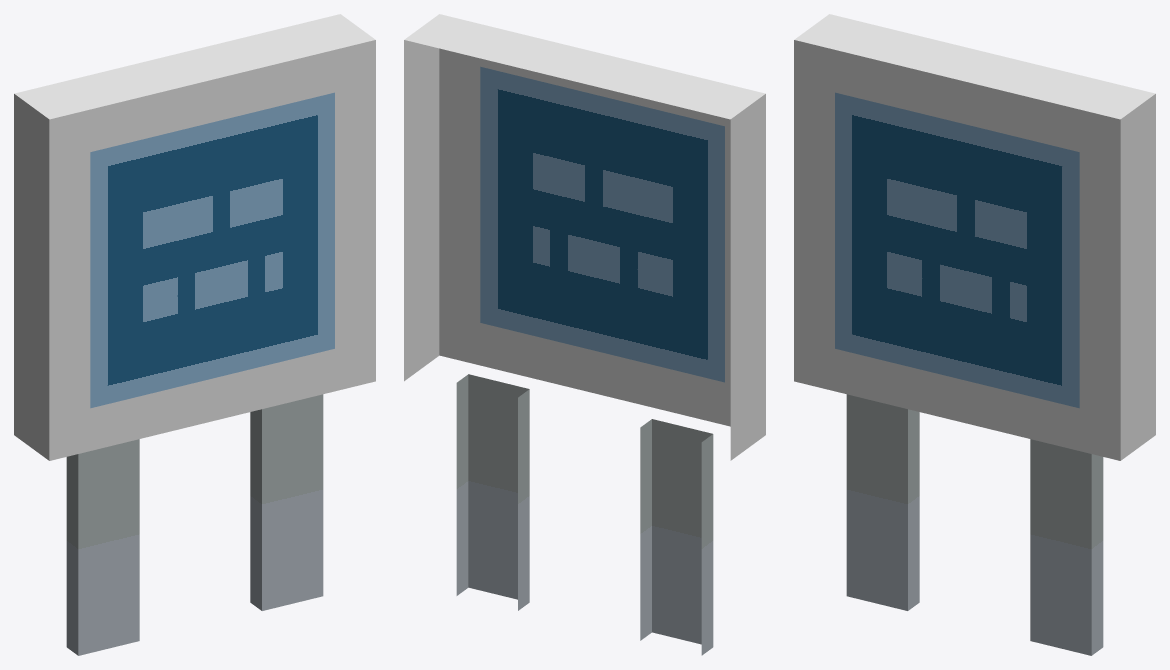
File: tips_sign.glb
3 renders of one model, left to right at view 1: azimuth 30°, elevation 25°; view 2: azimuth 150°, elevation 25°; view 3: azimuth 330°, elevation 25°, orthographic.
Visible parts, largest first — view 1: tips_sign; view 2: tips_sign; view 3: tips_sign.
Boxes of the visible parts, bbox=[...] form: tips_sign: bbox=[14, 14, 375, 655]; tips_sign: bbox=[404, 14, 765, 655]; tips_sign: bbox=[794, 14, 1155, 655].
Size of the model in its own units: 1 by 1.62 by 0.1875.
Materials: 2 (2 with a texture image).
